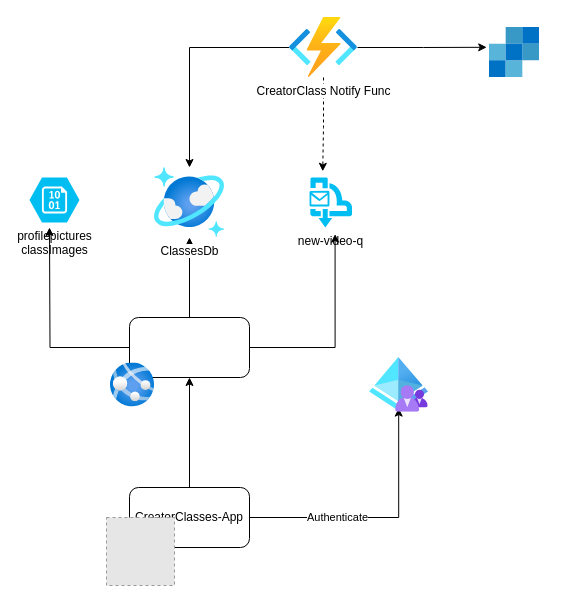
Some shapes in this 567 by 603 pixel diagram are drawn without their labels. Grey dashed boxes stand in for pictures. Each missing label, with the centre of its shape:
"Azure AdB2C" belongs at point 398,384.
"Creator Classes Experience API" belongs at point 189,347.
"SendGrid Api" belongs at point 514,52.
